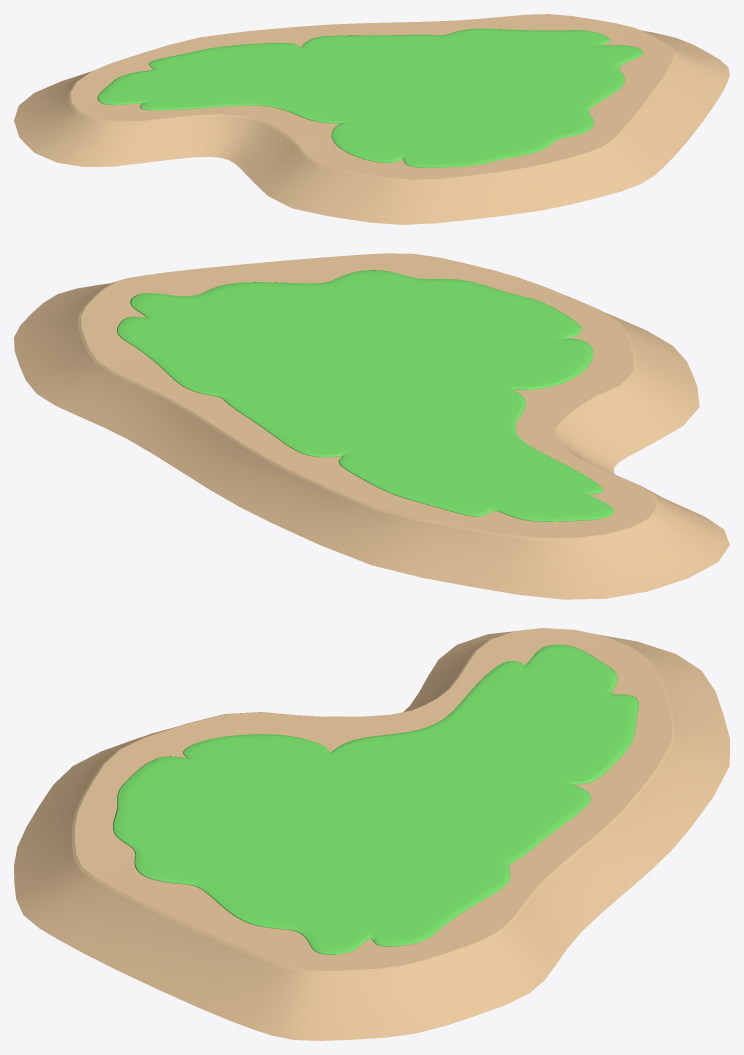
The model's file is Island04.fbx.
3 renders of one model, top to bottom at view 1: azimuth 30°, elevation 25°; view 2: azimuth 150°, elevation 25°; view 3: azimuth 270°, elevation 25°, orthographic. The views are drawn at different scales.
Parts seen in each view (by area): view 1: Island, IslandGrass; view 2: Island, IslandGrass; view 3: Island, IslandGrass.
Part boxes in pixels (x1,y1,x2,y2): Island: (14, 14, 729, 224); IslandGrass: (97, 28, 643, 167); Island: (14, 253, 729, 599); IslandGrass: (117, 270, 614, 521); Island: (14, 628, 729, 1040); IslandGrass: (113, 644, 638, 954).
Bounding box in the file's own units: 31914 × 1322 × 23464.
